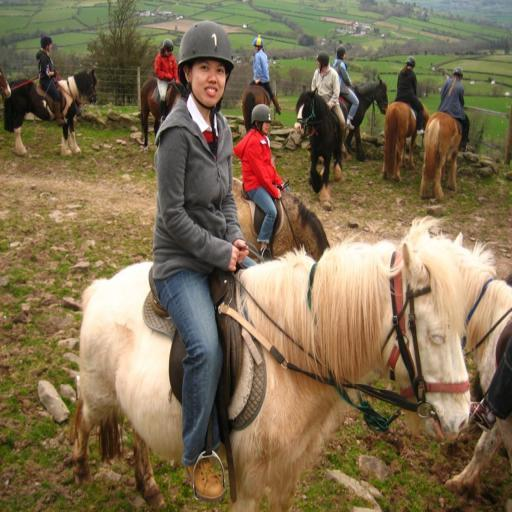horse: (66, 216, 472, 512), (434, 230, 512, 498), (4, 68, 100, 157), (294, 84, 350, 210), (341, 73, 391, 163), (381, 98, 432, 183), (419, 110, 464, 202), (138, 74, 191, 148), (242, 82, 274, 134)
